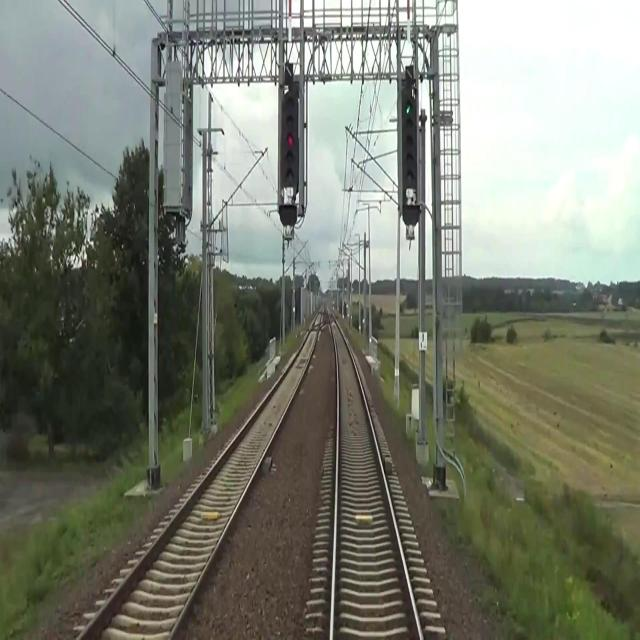rail-track: (332, 318, 419, 639)
